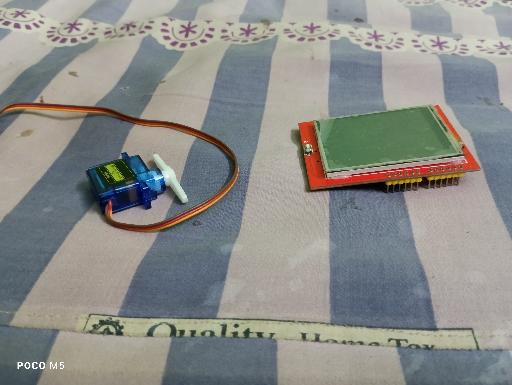Display: (298, 104, 481, 194)
Motor: (85, 152, 188, 217)
